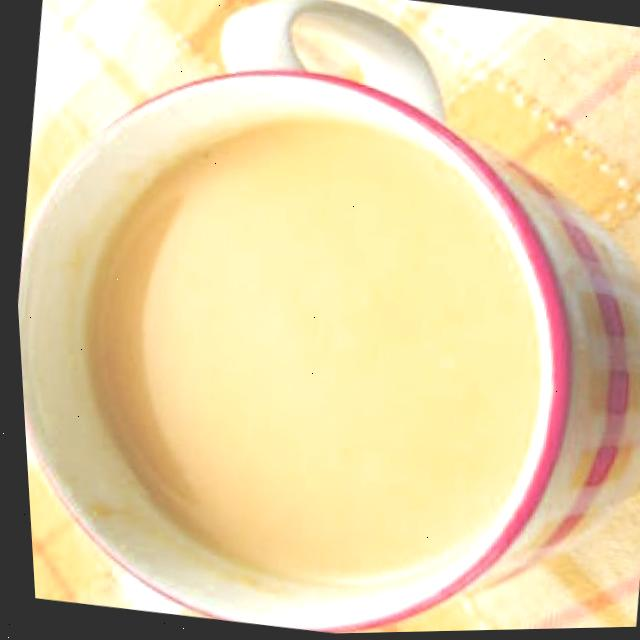汤锅炖物: (2, 22, 640, 640)
